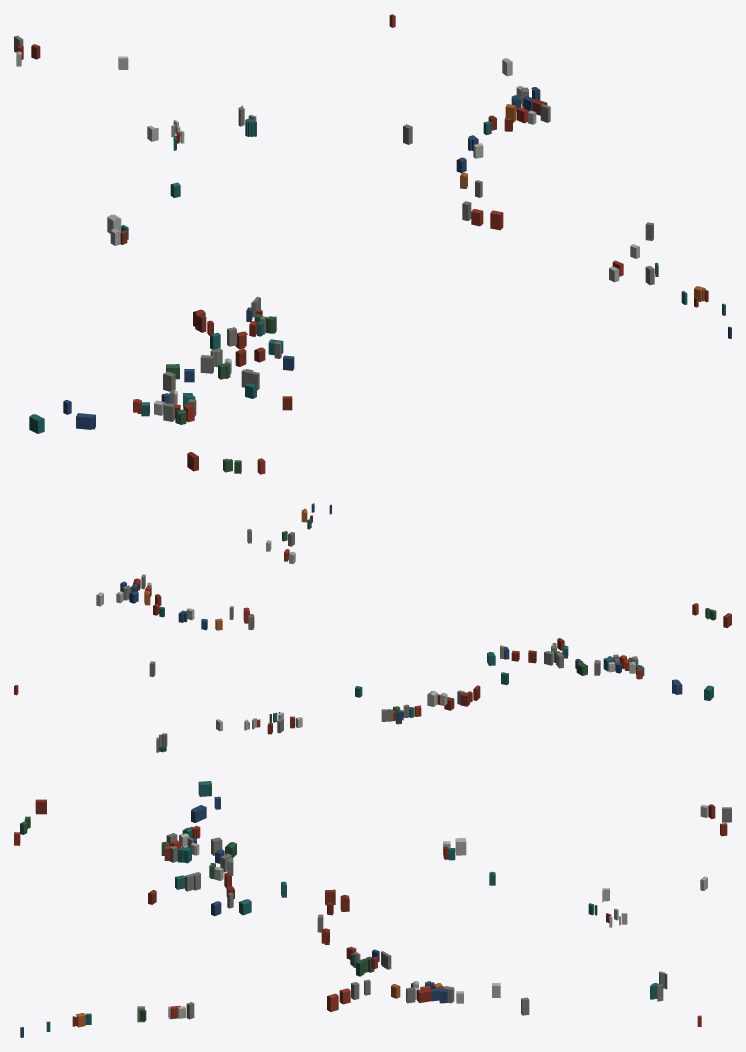
The model's file is near-15-27352-14876.c482437e.glb.
3 renders of one model, top to bottom at view 1: azimuth 30°, elevation 25°; view 2: azimuth 150°, elevation 25°; view 3: azimuth 270°, elevation 25°, orthographic. The views are drawn at different scales.
Bounding box in the file's own units: 1040 × 247 × 1116.
